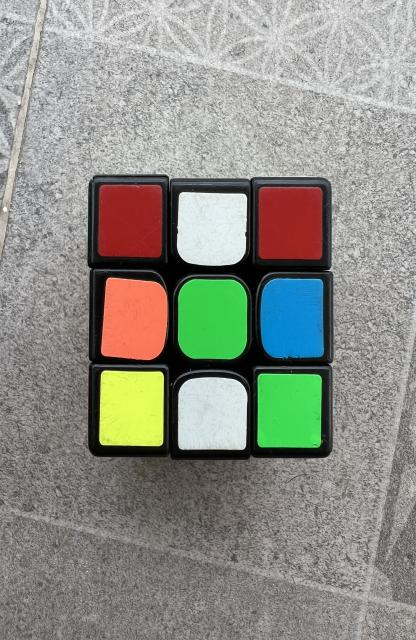Blue: (260, 279, 324, 359)
Green: (178, 279, 247, 360), (258, 374, 322, 448)
Orange: (101, 278, 168, 360)
Red: (259, 186, 323, 260), (99, 185, 162, 258)
White: (177, 192, 247, 265), (178, 378, 247, 451)
Yellow: (99, 370, 164, 446)
